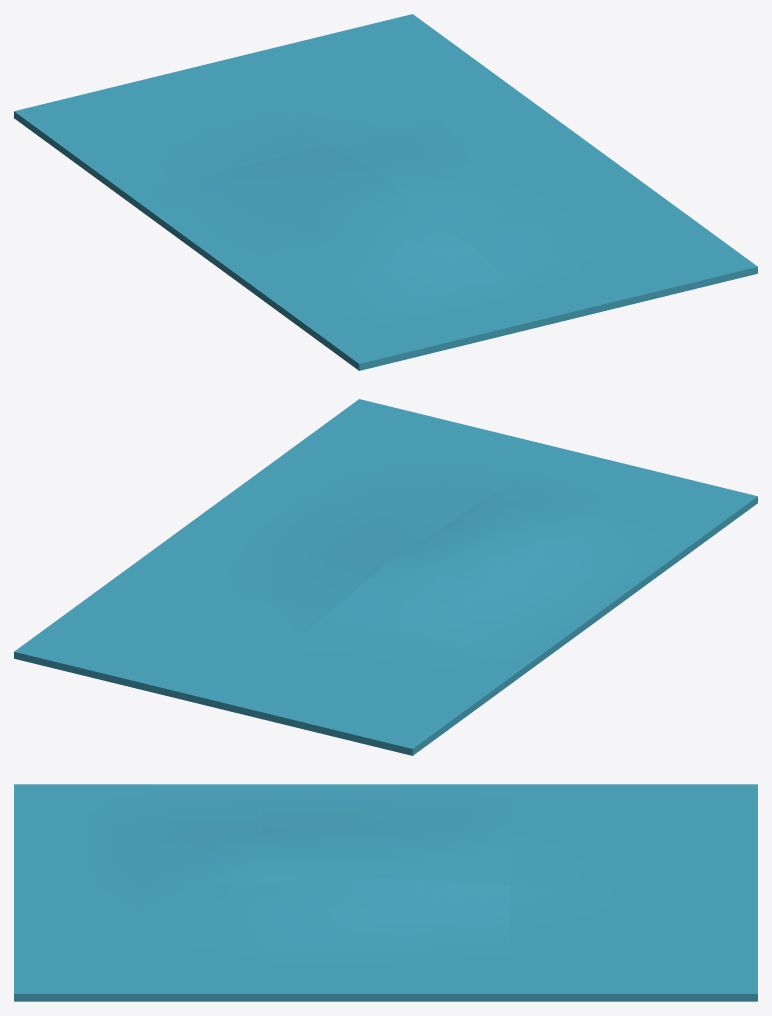
The model's file is Floor_Deform_01.fbx.
3 views of the same model, one above another, from view 1: azimuth 30°, elevation 25°; view 2: azimuth 150°, elevation 25°; view 3: azimuth 270°, elevation 25° (orthographic). The views are drawn at different scales.
Parts seen in each view (by area): view 1: Floor_Deform_01; view 2: Floor_Deform_01; view 3: Floor_Deform_01.
Boxes of the visible parts, x1,y1,x2,y2 form: Floor_Deform_01: (14,14,757,370); Floor_Deform_01: (14,399,757,755); Floor_Deform_01: (14,784,757,1001).
Bounding box in the file's own units: 600 × 27.75 × 900.
